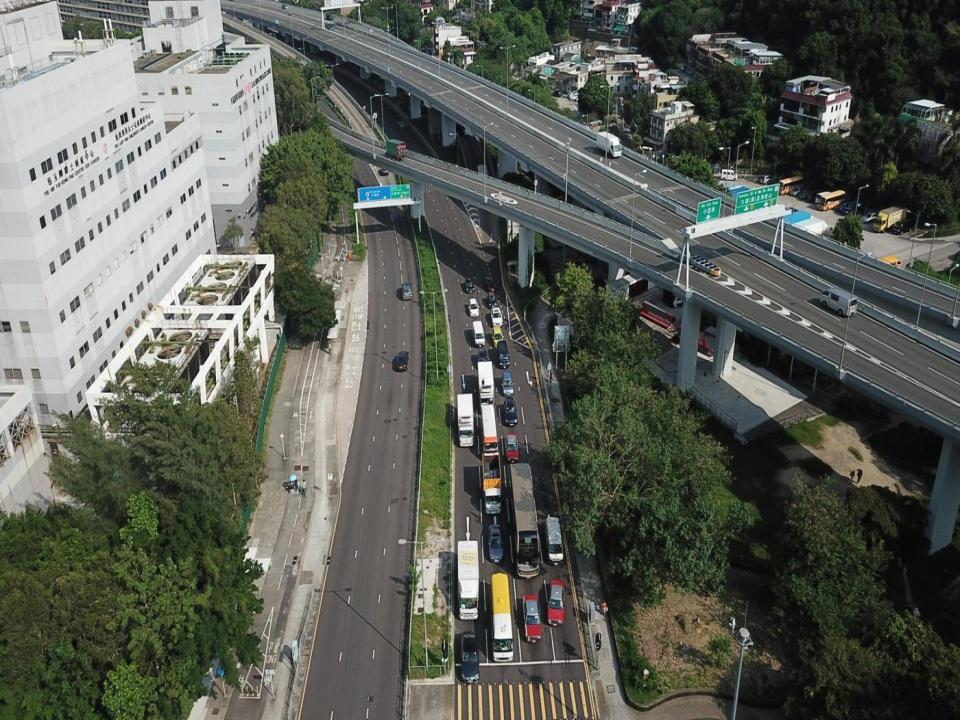bus: (508, 461, 542, 578), (490, 572, 515, 663), (481, 403, 499, 458), (817, 188, 847, 212), (874, 255, 903, 277), (777, 173, 805, 195)
car: (459, 629, 481, 685), (522, 593, 543, 643), (546, 577, 566, 627), (488, 523, 506, 563), (504, 432, 520, 463), (503, 396, 519, 426), (891, 217, 915, 235), (501, 370, 515, 396), (860, 209, 879, 226), (835, 198, 852, 215), (396, 350, 409, 371), (805, 188, 822, 204), (490, 306, 503, 326), (477, 348, 490, 368), (788, 184, 808, 197), (400, 281, 413, 300), (482, 276, 497, 292), (797, 189, 814, 203), (758, 174, 777, 186), (468, 297, 479, 317), (487, 290, 498, 309), (464, 277, 475, 294), (380, 164, 388, 176), (286, 11, 296, 19), (325, 23, 333, 32), (281, 3, 289, 10)
truck: (457, 540, 480, 620), (480, 450, 502, 515), (456, 392, 476, 448), (872, 206, 908, 233), (477, 359, 495, 409), (596, 131, 623, 158), (383, 138, 406, 160)
van: (818, 287, 857, 318), (544, 515, 564, 566), (840, 200, 865, 219), (497, 340, 510, 369), (471, 320, 485, 346), (491, 325, 505, 347), (813, 190, 832, 206), (719, 168, 738, 182), (324, 12, 335, 21)
